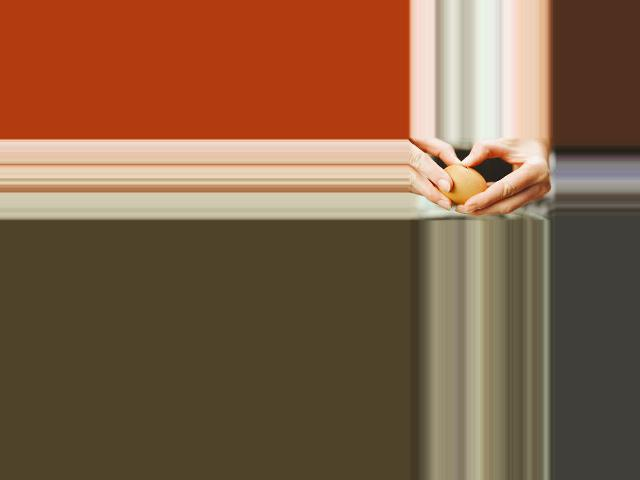egg: (437, 164, 486, 205)
